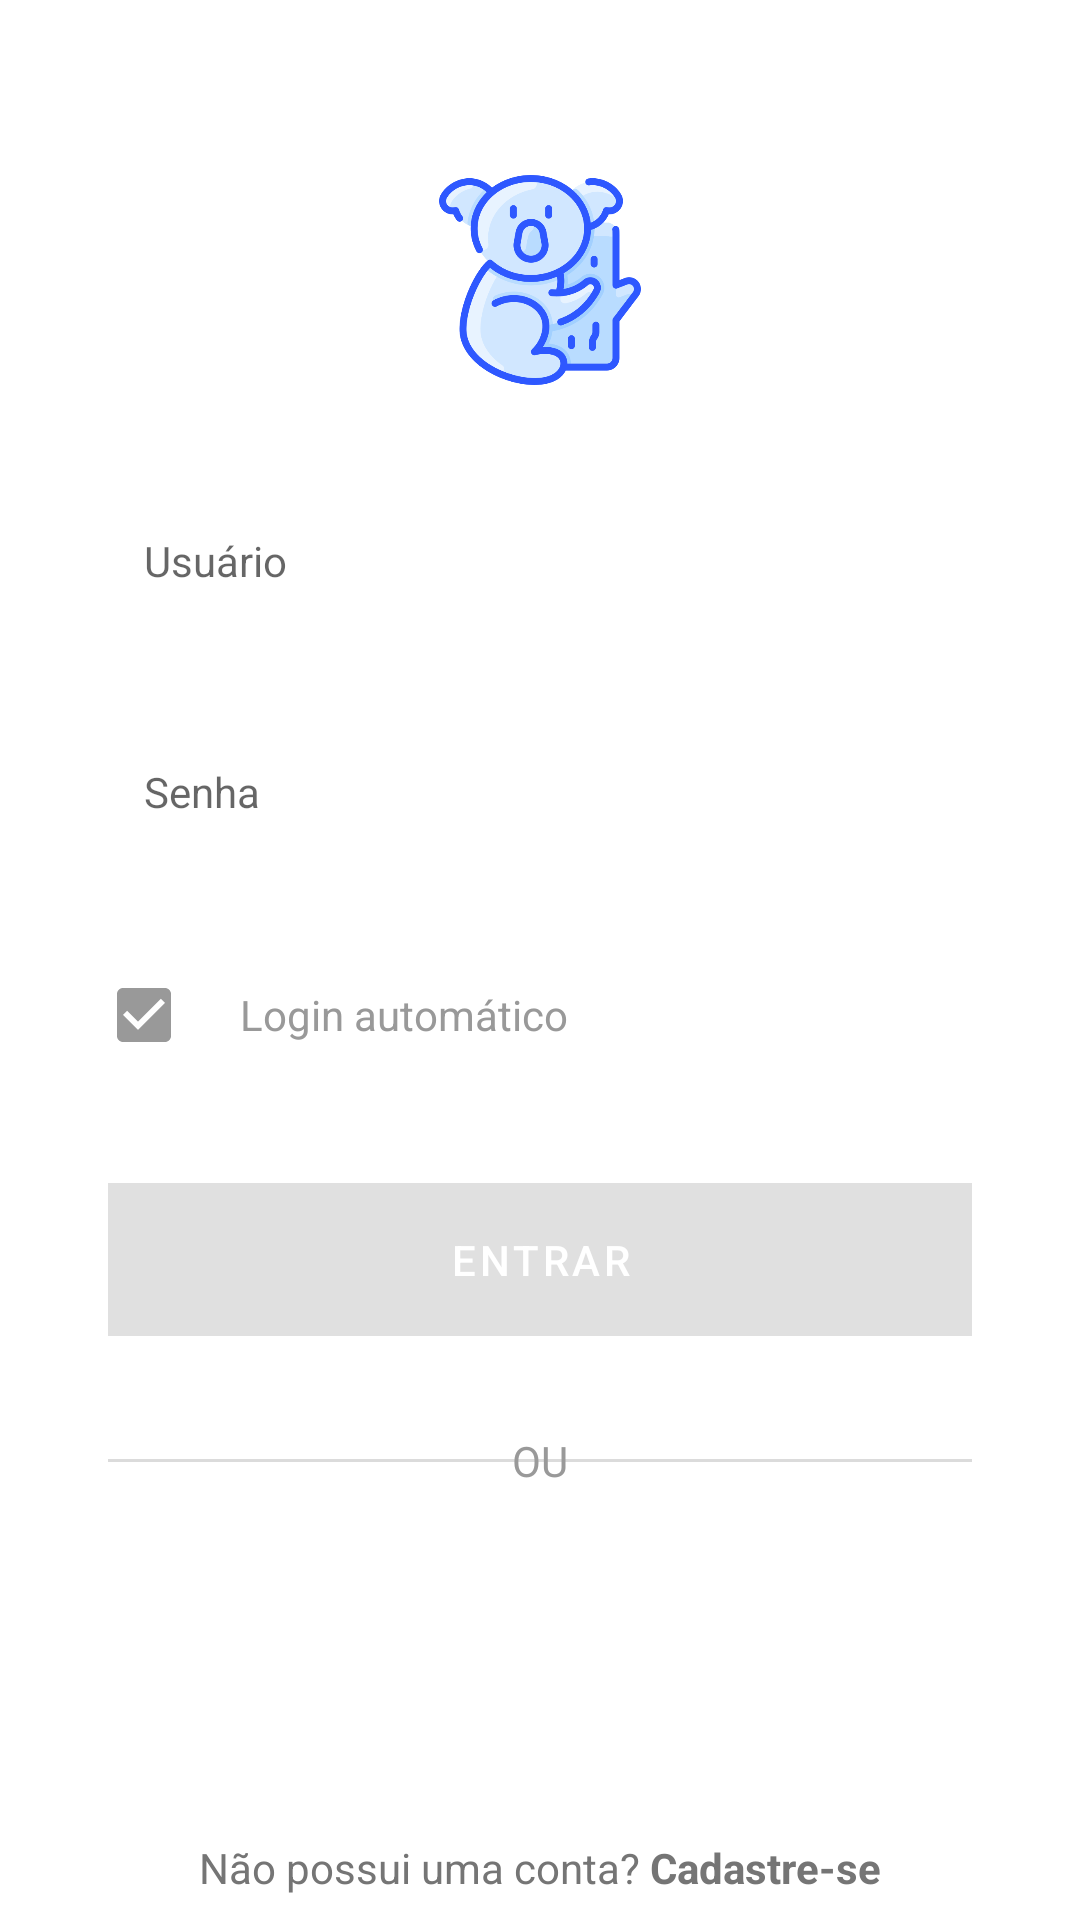

Point at icon controls on the screen. Image size 1080×1920, points as point (x, y).
coala: point (540, 280)
